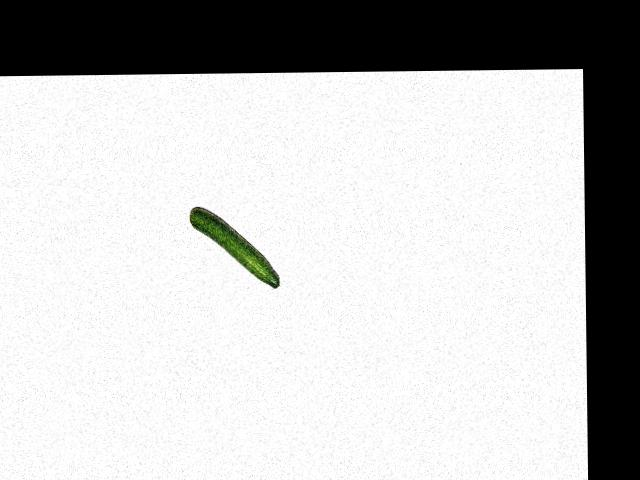cucumber: (189, 206, 279, 289)
